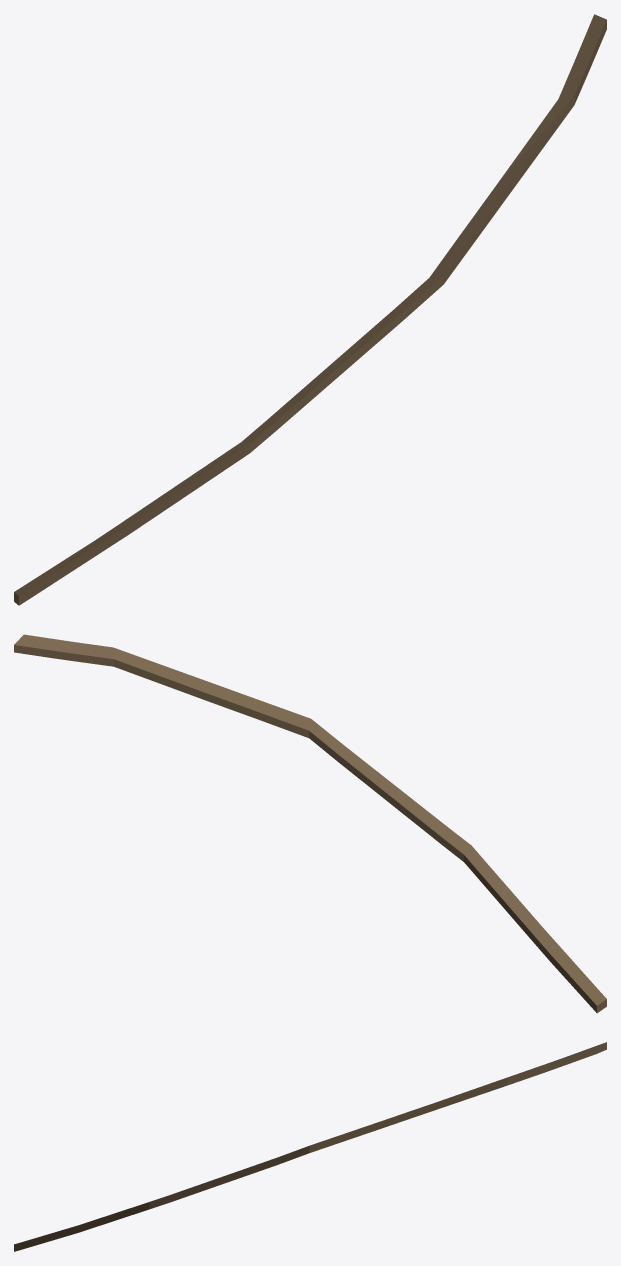
3 renders of one model, top to bottom at view 1: azimuth 30°, elevation 25°; view 2: azimuth 150°, elevation 25°; view 3: azimuth 330°, elevation 25°, orthographic. The views are drawn at different scales.
Size of the model in its own units: 50.6 by 26.97 by 15.69.
